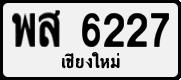letters: (10, 12, 37, 49), (38, 9, 61, 48), (102, 12, 125, 48), (126, 12, 149, 48), (80, 12, 101, 48), (150, 12, 170, 48)
province: (58, 51, 124, 70)
